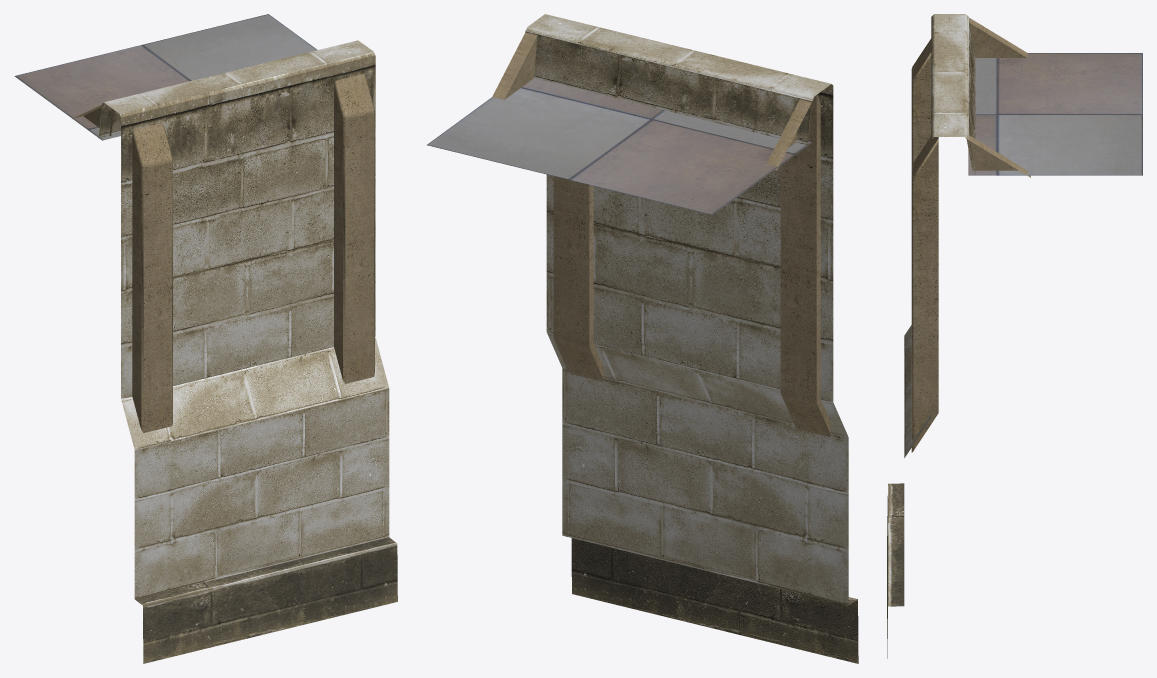
File: caslte-wall-w-thing.fbx
The picture shows the model from 3 angles, left to right: view 1: azimuth 30°, elevation 25°; view 2: azimuth 150°, elevation 25°; view 3: azimuth 270°, elevation 25°; orthographic projection. The views are drawn at different scales.
Parts seen in each view (by area): view 1: caslte-wall-w-thing; view 2: caslte-wall-w-thing; view 3: caslte-wall-w-thing.
Part boxes in pixels (box(x1,y1,x2,y2)): caslte-wall-w-thing: box(14, 14, 397, 663); caslte-wall-w-thing: box(426, 14, 858, 663); caslte-wall-w-thing: box(887, 14, 1142, 658).
Bounding box in the file's own units: 200 × 400 × 176.
